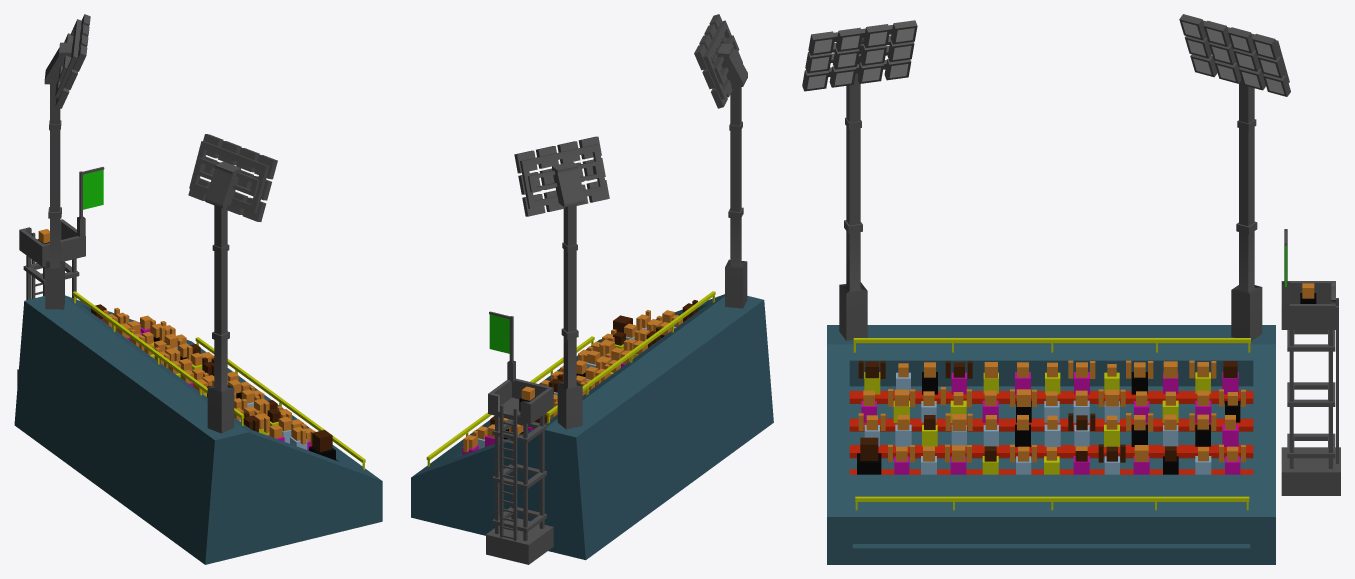
File: Stadium_03.obj
The picture shows the model from 3 angles, left to right: view 1: azimuth 30°, elevation 25°; view 2: azimuth 150°, elevation 25°; view 3: azimuth 270°, elevation 25°; orthographic projection. The views are drawn at different scales.
Visible parts, largest first — view 1: Stadium_03_Mesh.004; view 2: Stadium_03_Mesh.004; view 3: Stadium_03_Mesh.004.
Part boxes in pixels (x1=…): Stadium_03_Mesh.004: x1=14, y1=14, x2=382, y2=564; Stadium_03_Mesh.004: x1=411, y1=14, x2=773, y2=564; Stadium_03_Mesh.004: x1=802, y1=14, x2=1340, y2=564.
Bounding box in the file's own units: 0.7758 × 1.65 × 1.73.
